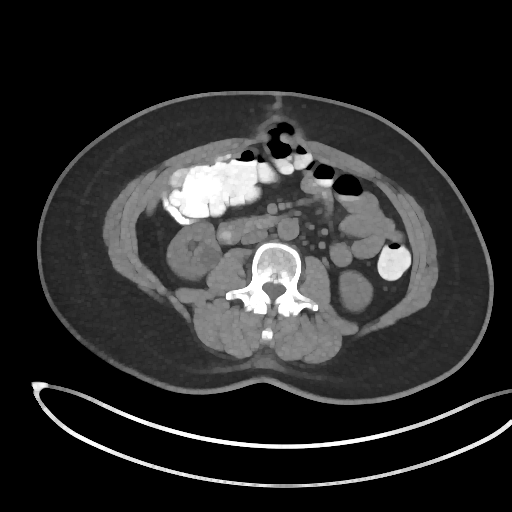Lesion: (194, 243, 224, 270)
